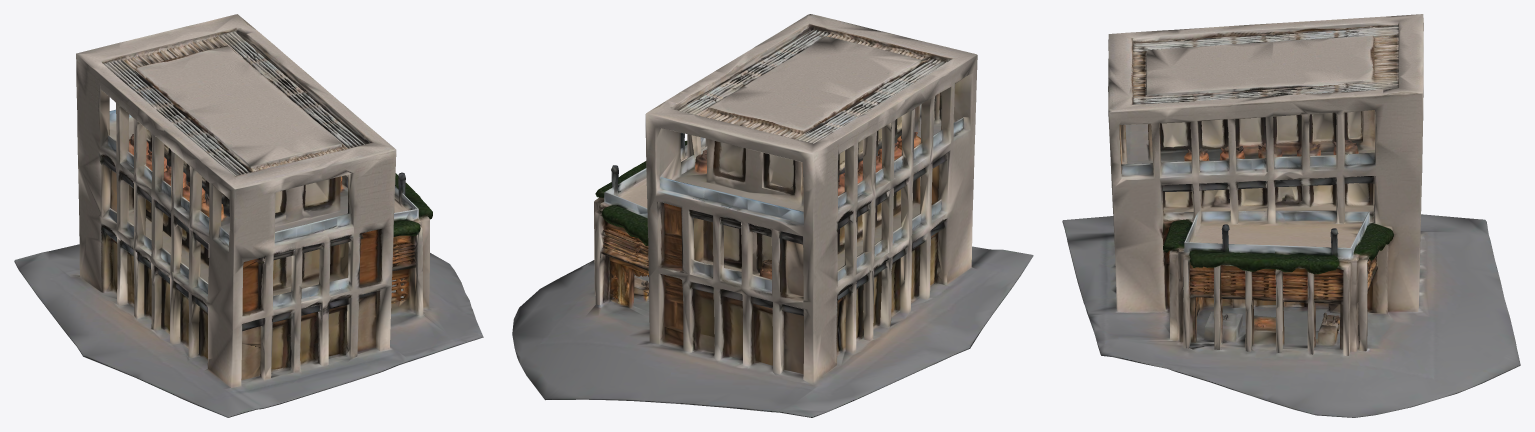
The model's file is shopblk3_lod1.glb.
3 views of the same model, side by side, from view 1: azimuth 30°, elevation 25°; view 2: azimuth 150°, elevation 25°; view 3: azimuth 270°, elevation 25° (orthographic). The views are drawn at different scales.
Parts seen in each view (by area): view 1: tripo_node_a7c42c4e-fc94-45e2-8fab-97f05bae58b5; view 2: tripo_node_a7c42c4e-fc94-45e2-8fab-97f05bae58b5; view 3: tripo_node_a7c42c4e-fc94-45e2-8fab-97f05bae58b5.
Boxes of the visible parts, box(x1,y1,x2,y2) form: tripo_node_a7c42c4e-fc94-45e2-8fab-97f05bae58b5: box(14, 14, 483, 417); tripo_node_a7c42c4e-fc94-45e2-8fab-97f05bae58b5: box(512, 14, 1033, 417); tripo_node_a7c42c4e-fc94-45e2-8fab-97f05bae58b5: box(1062, 14, 1520, 417).
Size of the model in its own units: 19.4 by 12 by 19.86.
Materials: 1 (1 with a texture image).
